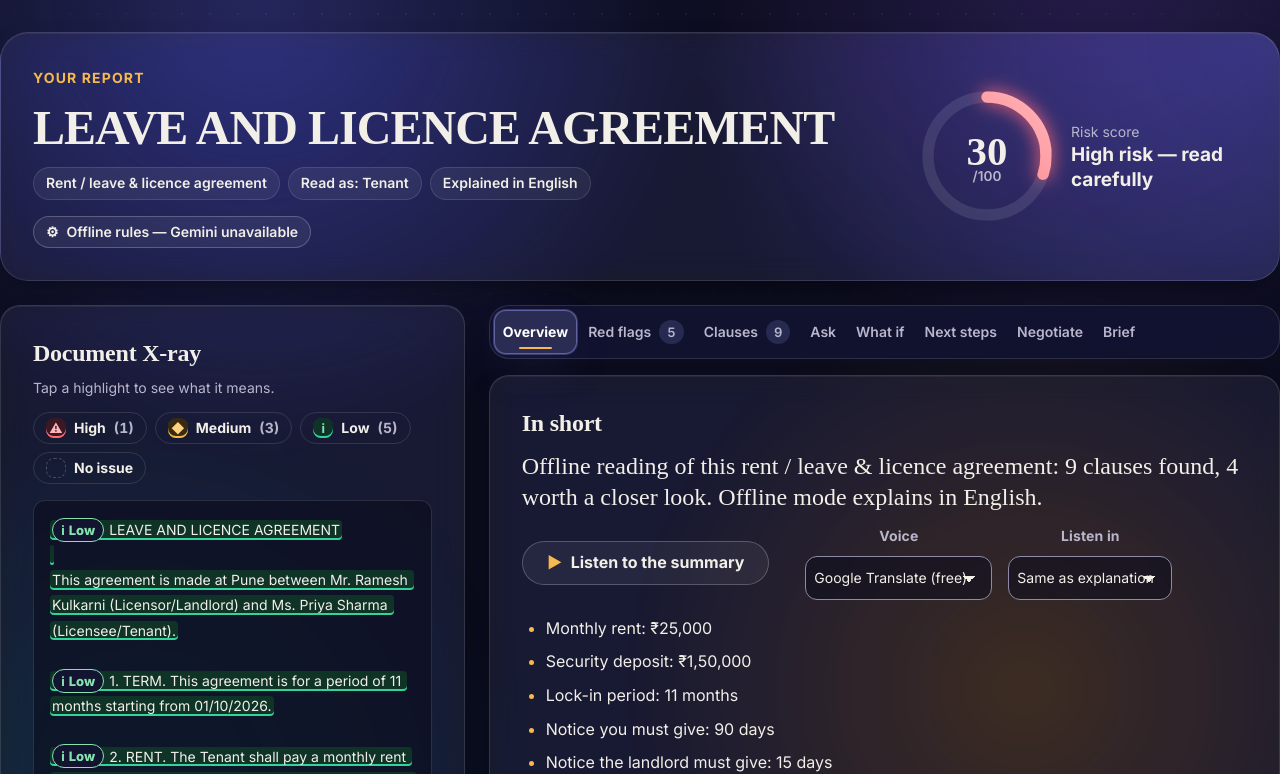
Test case: ReportWorkspace › loads the Negotiate panel lazily when its tab opens
Click the tab "Negotiate": (1050, 332) 1008,310 -> 1092,354
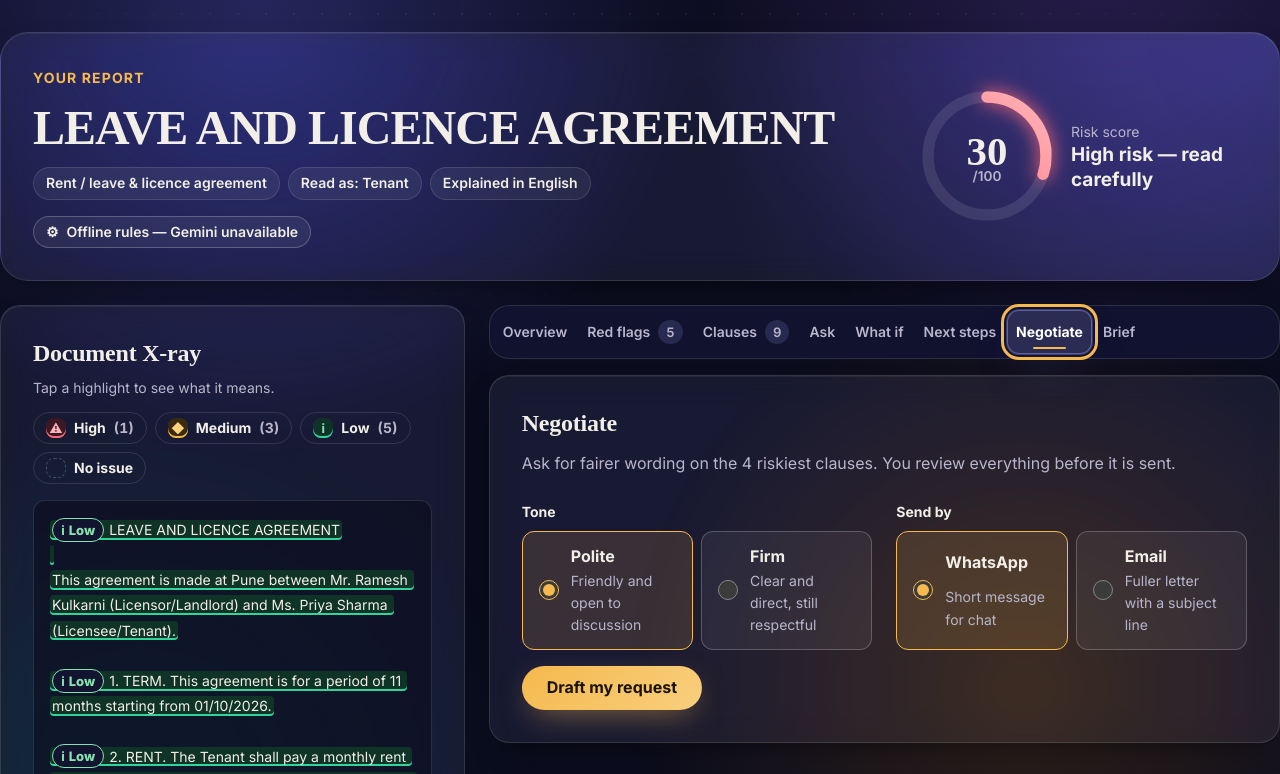
Now the heading "Negotiate" is shown, box 522,410 -> 617,436
